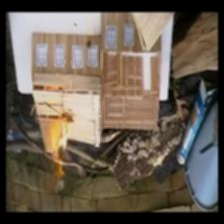fire: (39, 116, 76, 181)
